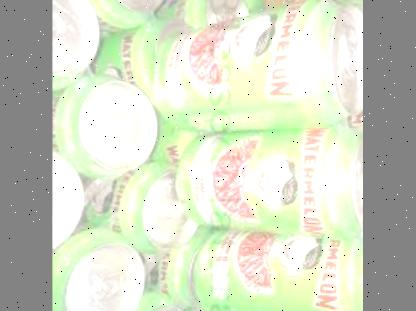Can: (156, 0, 363, 131), (180, 124, 364, 236), (190, 233, 363, 311), (54, 74, 161, 175), (86, 160, 198, 251), (53, 226, 147, 311), (53, 0, 99, 88), (53, 0, 165, 35), (53, 142, 86, 247), (73, 293, 193, 311)
